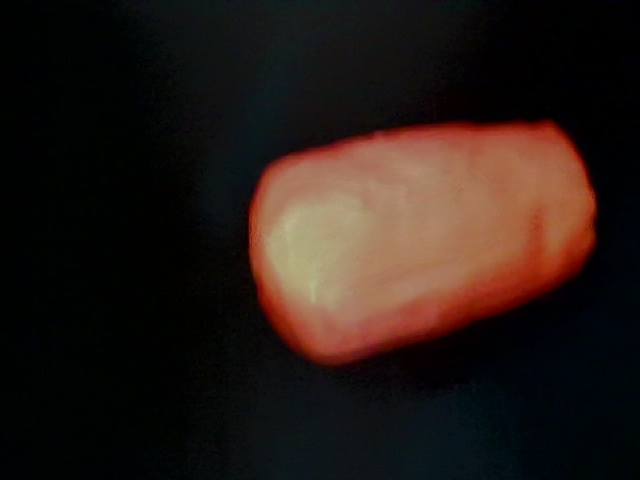KHSLJ: (133, 245, 568, 480)
